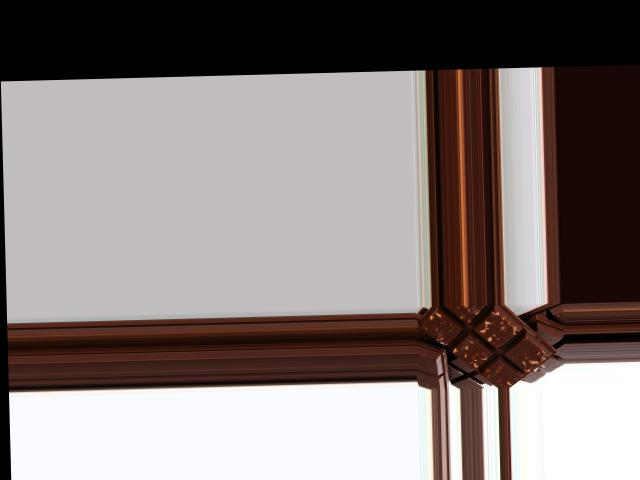chocolate: (419, 302, 547, 389)
